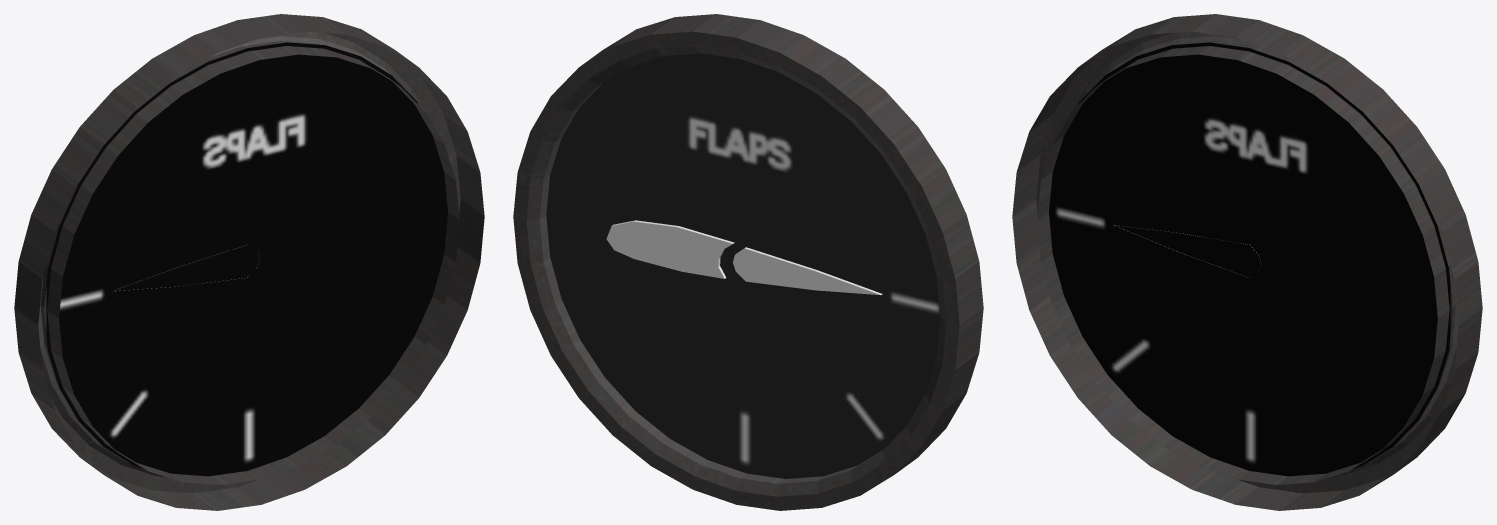
The model's file is flaps.obj.
The picture shows the model from 3 angles, left to right: view 1: azimuth 30°, elevation 25°; view 2: azimuth 150°, elevation 25°; view 3: azimuth 330°, elevation 25°; orthographic projection.
Parts seen in each view (by area): view 1: face, fond, vitre; view 2: face, vitre, fond, needle; view 3: face, fond, vitre.
Part boxes in pixels (x1,y1,x2,y2): face: (44,42,447,476); fond: (14,14,484,510); vitre: (39,37,386,445); face: (546,53,940,478); vitre: (540,54,939,483); fond: (513,14,983,510); needle: (733,247,882,295); face: (1049,42,1452,476); fond: (1012,14,1482,510); vitre: (1111,37,1457,446).
Bounding box in the file's own units: 0.0248 × 0.0248 × 0.00231.
2 materials, 1 textured.
